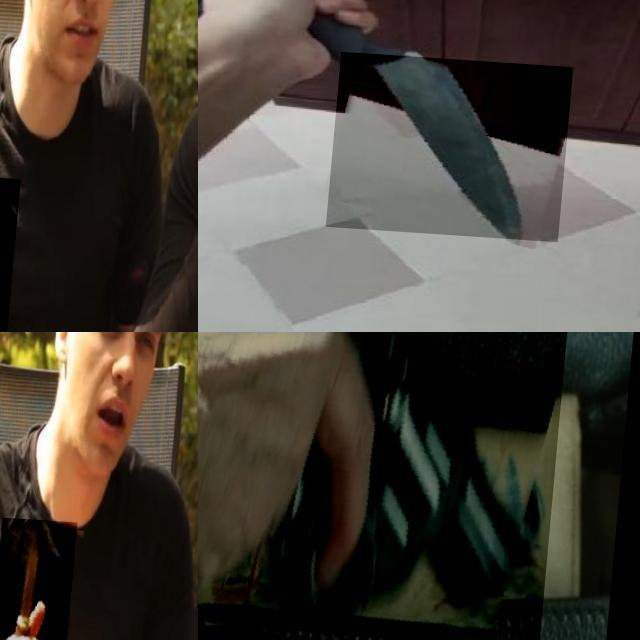-: (333, 49, 578, 236), (0, 516, 84, 640), (0, 172, 49, 332)
gun-knife-thesis - v11 Yolov5 augmented: (198, 332, 580, 640)
